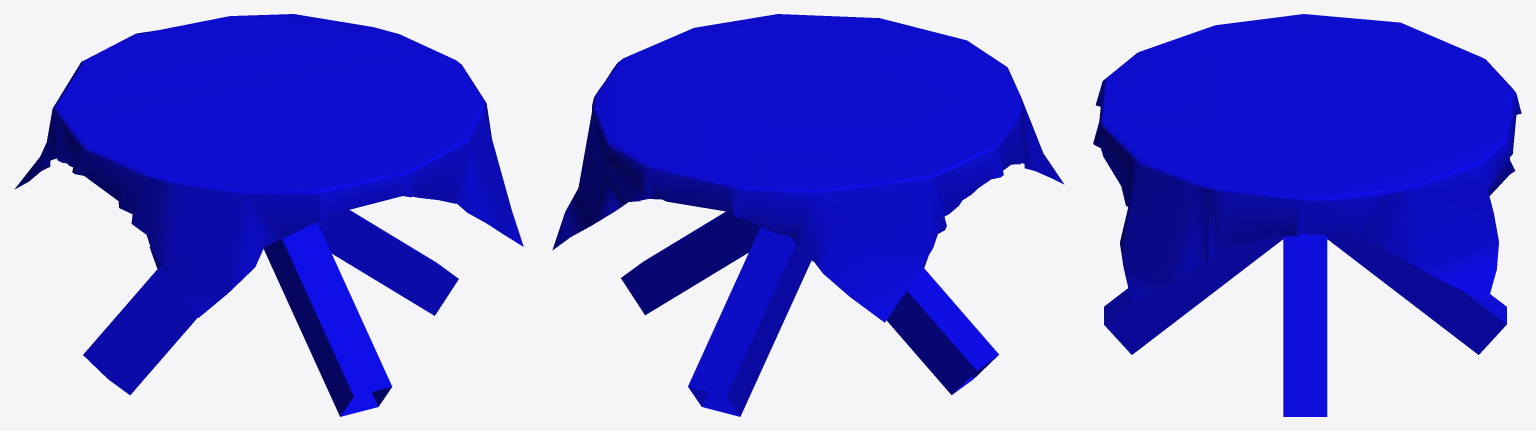
Rendered from table_4.fbx.
3 renders of one model, left to right at view 1: azimuth 30°, elevation 25°; view 2: azimuth 150°, elevation 25°; view 3: azimuth 270°, elevation 25°, orthographic. The views are drawn at different scales.
Parts seen in each view (by area): view 1: table_4; view 2: table_4; view 3: table_4.
Part boxes in pixels (x1,y1,x2,y2): table_4: [14, 14, 523, 416]; table_4: [552, 14, 1064, 416]; table_4: [1093, 14, 1521, 416].
Size of the model in its own units: 101 by 62.16 by 98.
